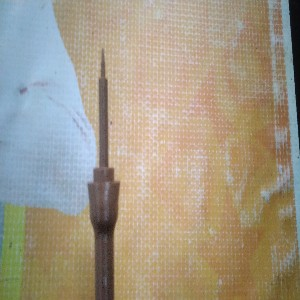solder: (87, 47, 121, 300)
